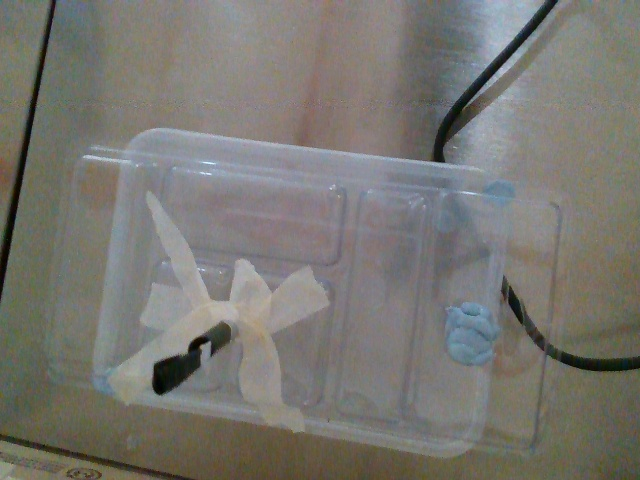test_strip: (150, 342, 211, 395)
